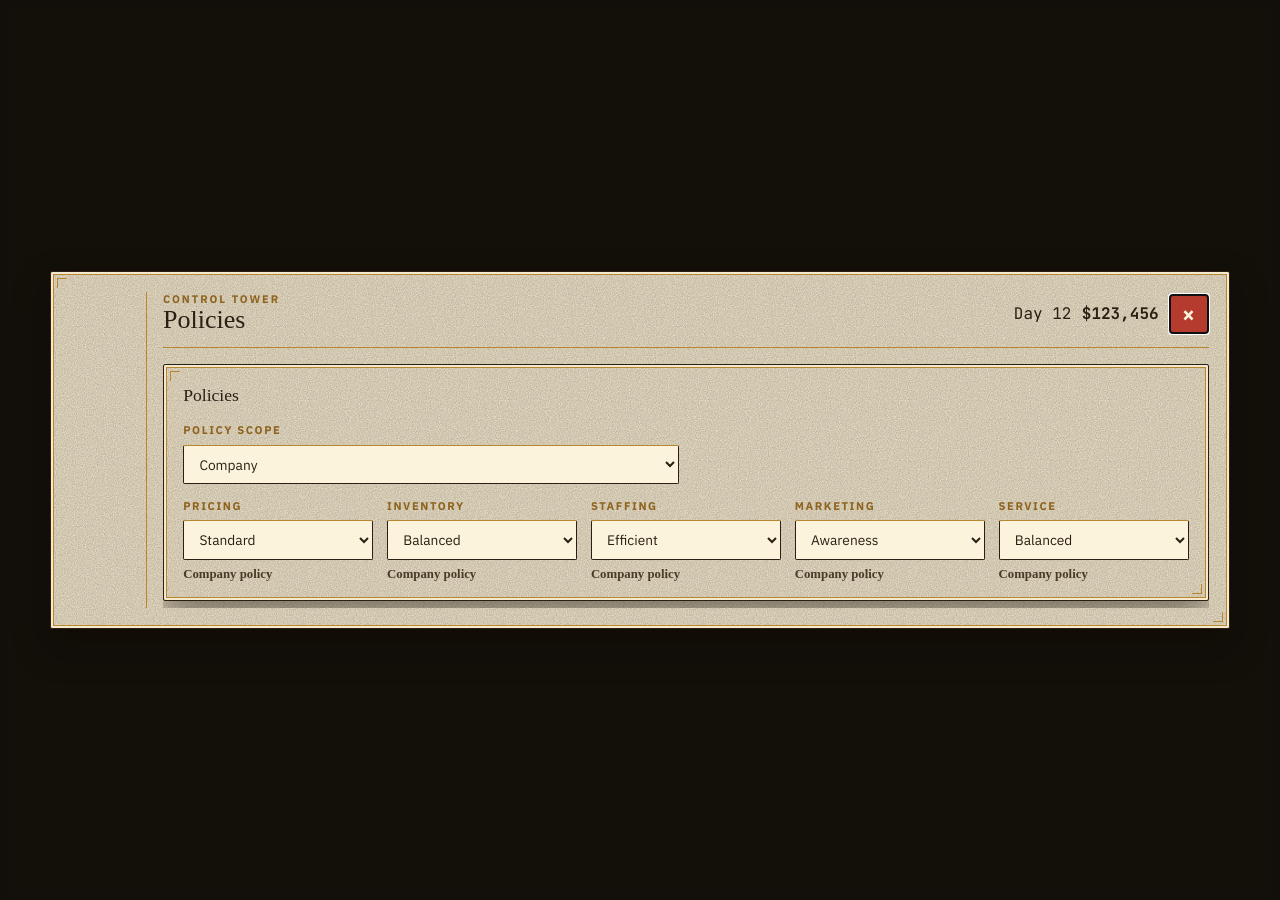
it: ManagementPanelHost › keeps company policy editable while scoped policy controls are unavailable
This screenshot has width=1280, height=900.
Expected: the dropdown named "Pricing" is enabled, [183, 520, 374, 560]
Select "City" in the dropdown labelled "Policy scope" at (431, 465), box [183, 445, 679, 484]
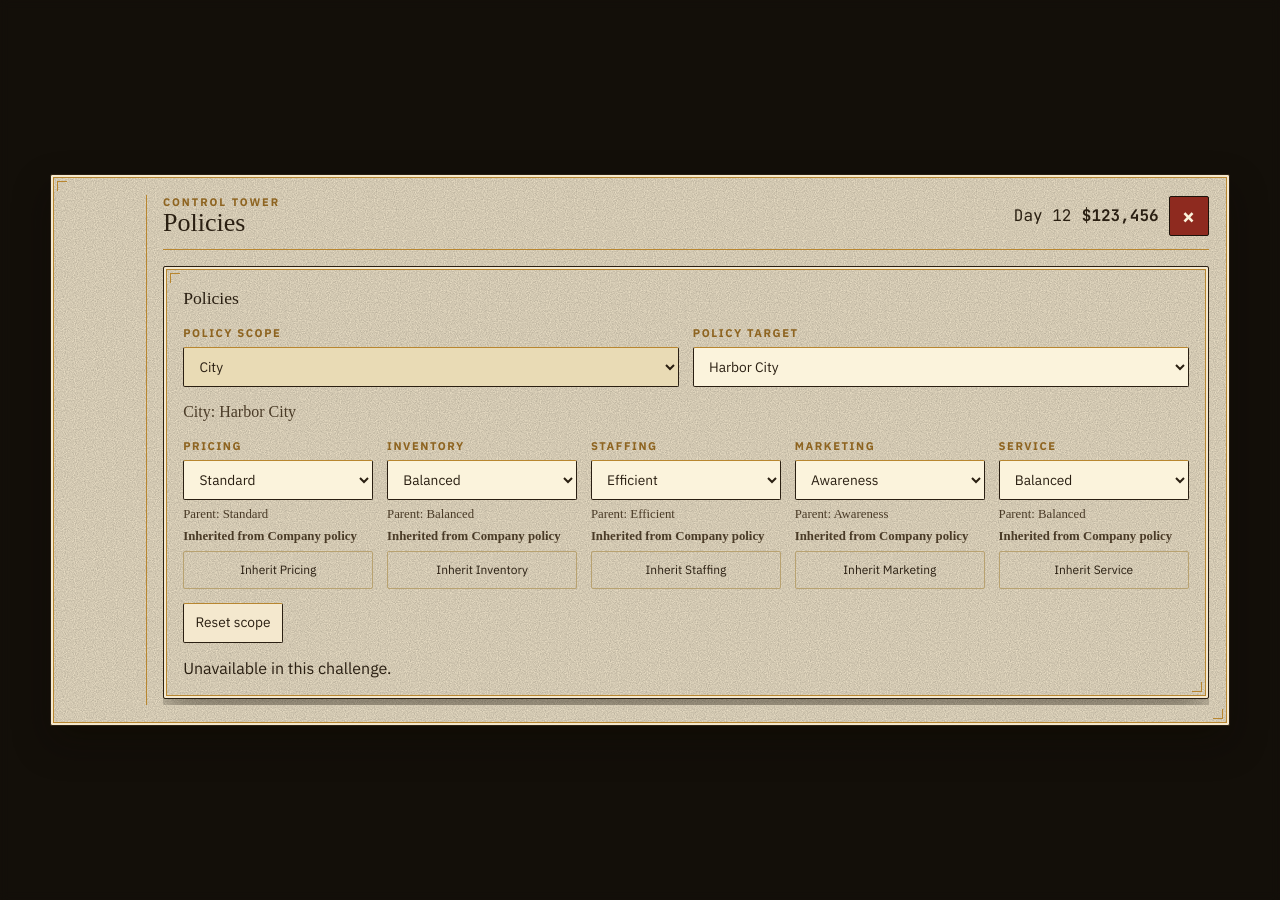
Now the dropdown named "Pricing" is disabled, box [183, 460, 374, 500]
